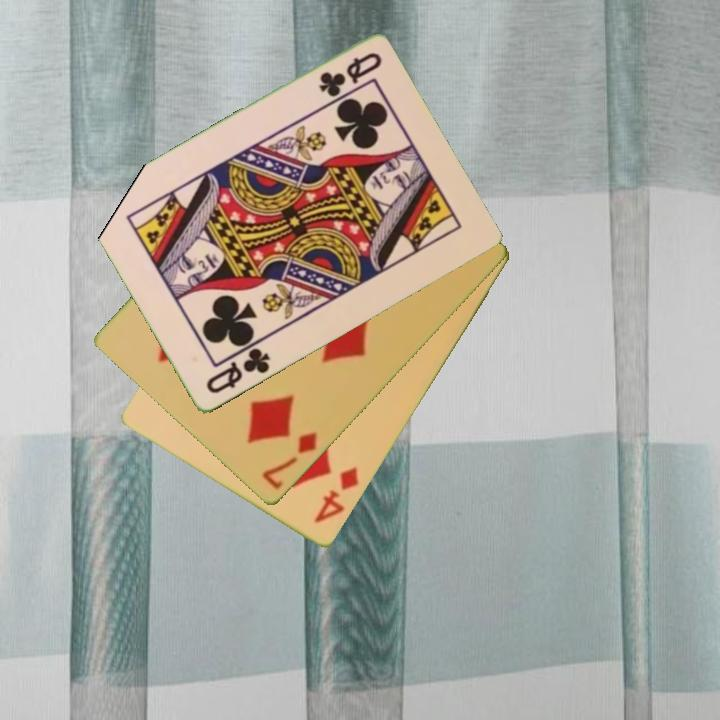4d: (311, 463, 362, 527)
7d: (258, 428, 321, 493)
Qc: (202, 344, 273, 397), (314, 49, 385, 100)
